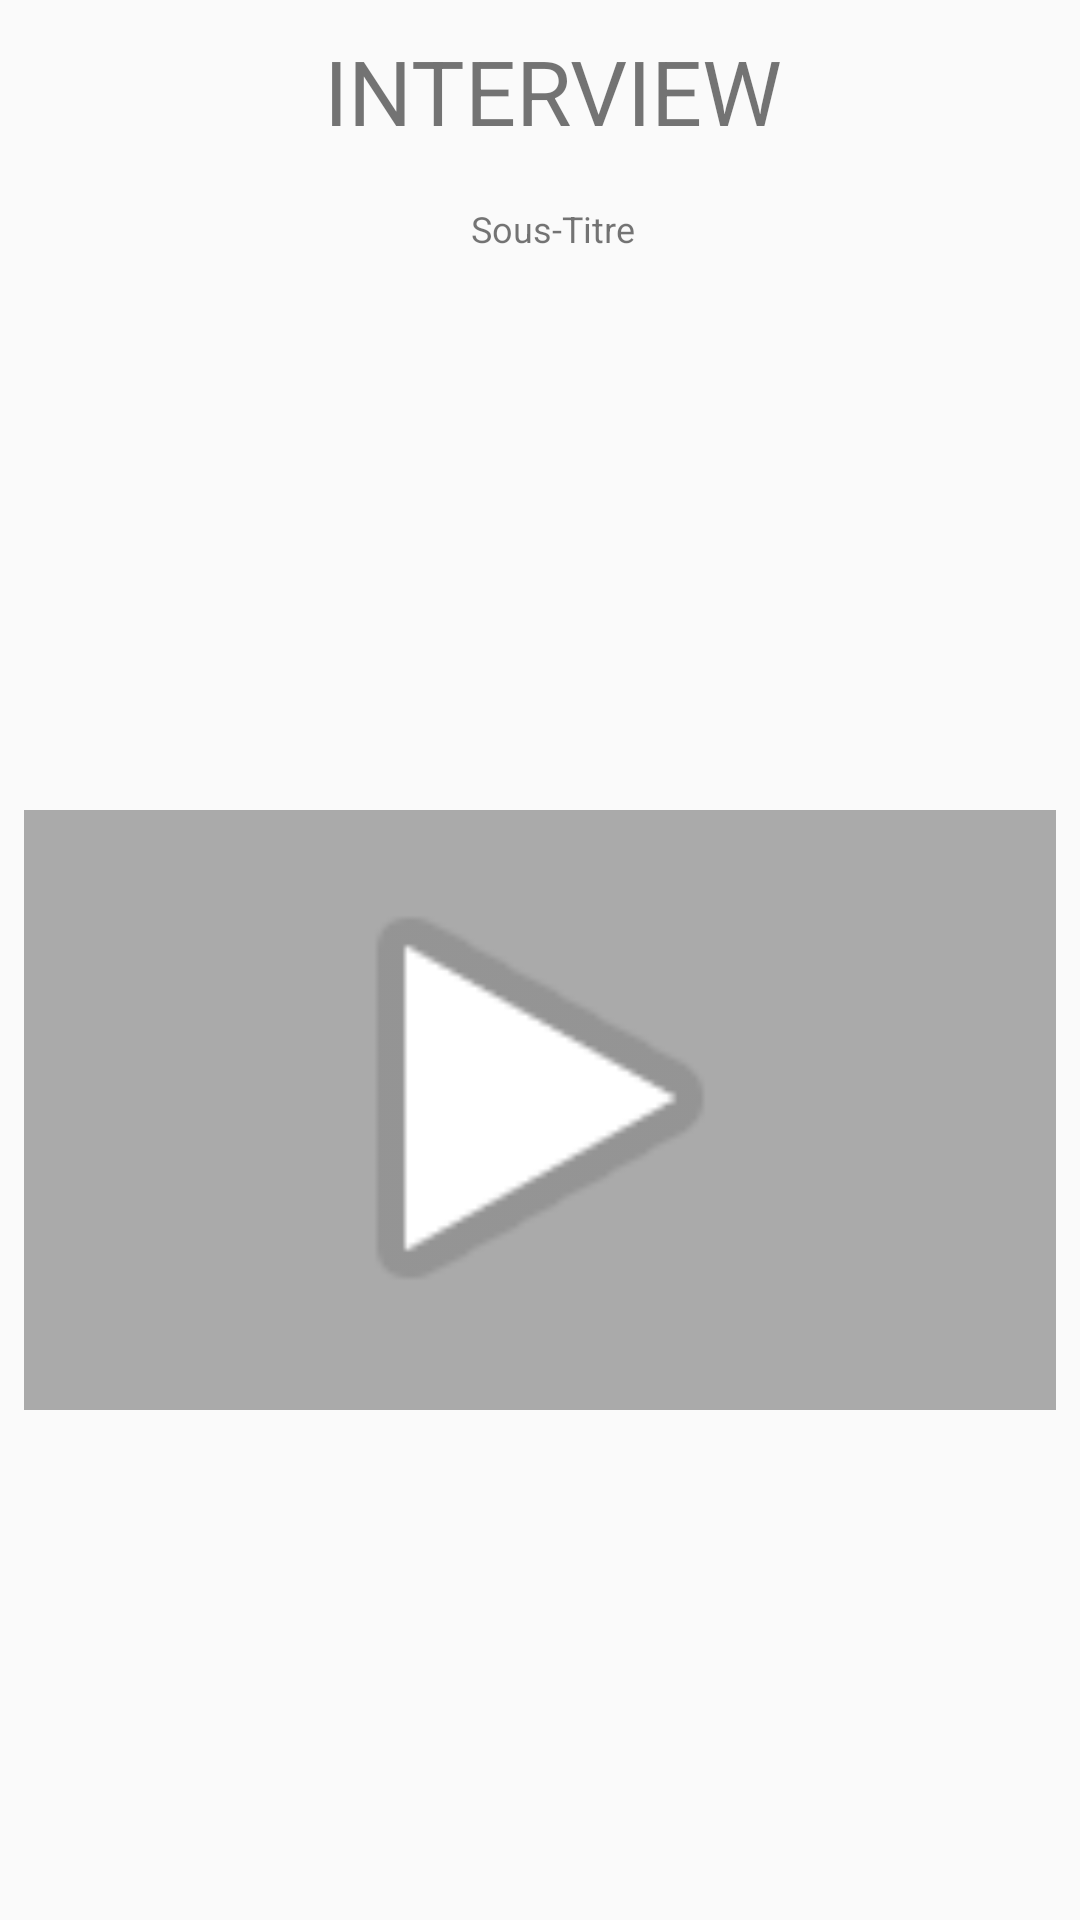

Where to tap for icons on this 1080x1920 app screen, as (x,y):
play: (539,1098)
